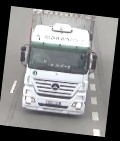truck: (21, 8, 95, 117)
